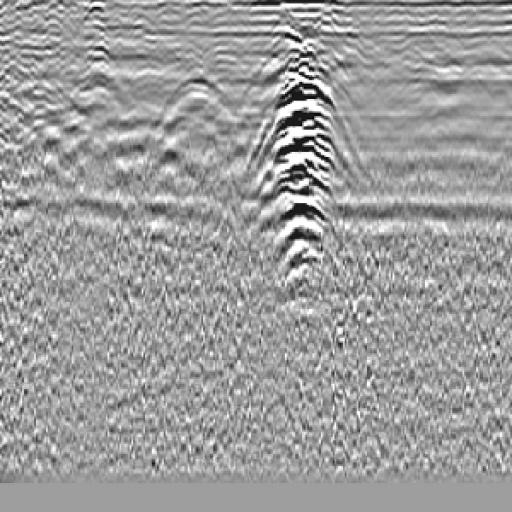metalic: (260, 31, 342, 284)
nonmetalic: (137, 55, 252, 163)
